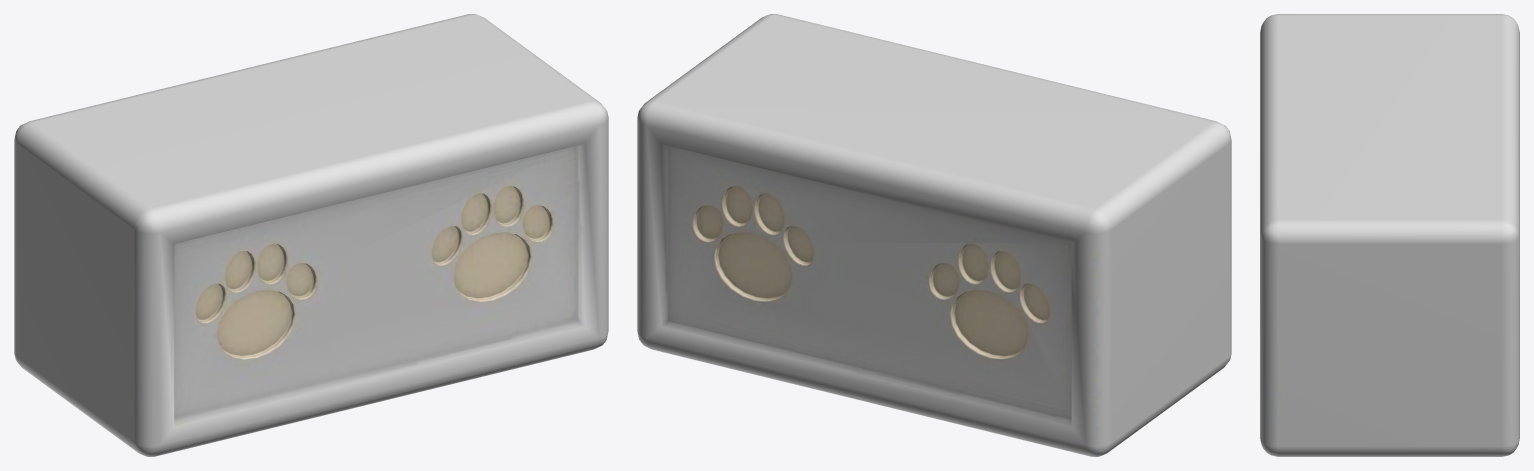
Rendered from kup2.glb.
The picture shows the model from 3 angles, left to right: view 1: azimuth 30°, elevation 25°; view 2: azimuth 150°, elevation 25°; view 3: azimuth 270°, elevation 25°; orthographic projection. The views are drawn at different scales.
Visible parts, largest first — view 1: blok; view 2: blok; view 3: blok.
Part boxes in pixels (bbox=[...]): blok: bbox=[14, 14, 608, 456]; blok: bbox=[637, 14, 1231, 456]; blok: bbox=[1260, 14, 1519, 456].
Size of the model in its own units: 2 by 1 by 1.
Materials: 2 (2 with a texture image).
